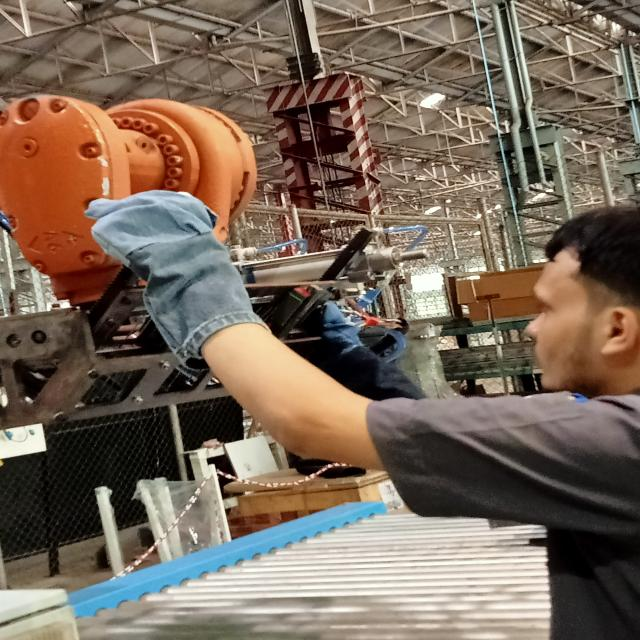Gloves-Detection: (78, 196, 278, 359)
